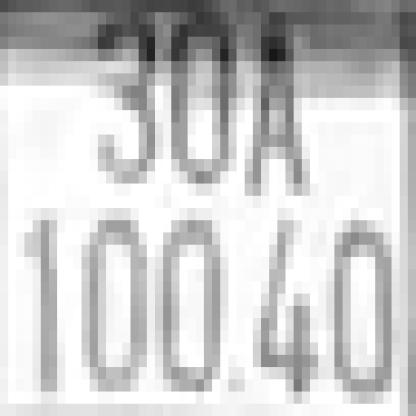0: (81, 208, 147, 392), (318, 208, 383, 392), (155, 208, 220, 392), (172, 24, 228, 196)
1: (16, 208, 74, 379)
3: (90, 25, 155, 184)
4: (245, 208, 310, 392)
A: (236, 12, 302, 196)
